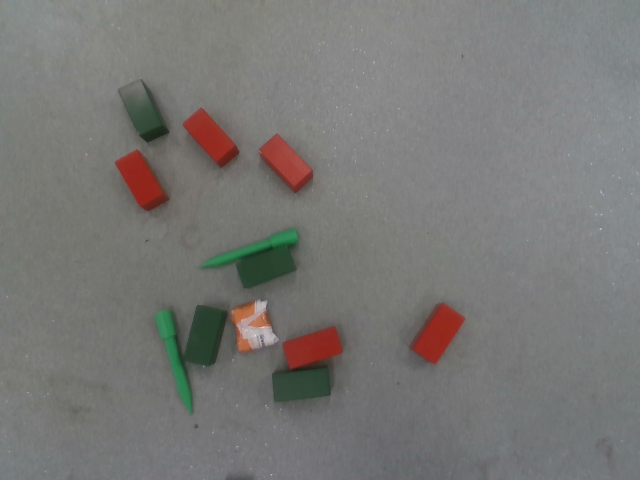Probe: (196, 225, 300, 269), (154, 308, 196, 416)
